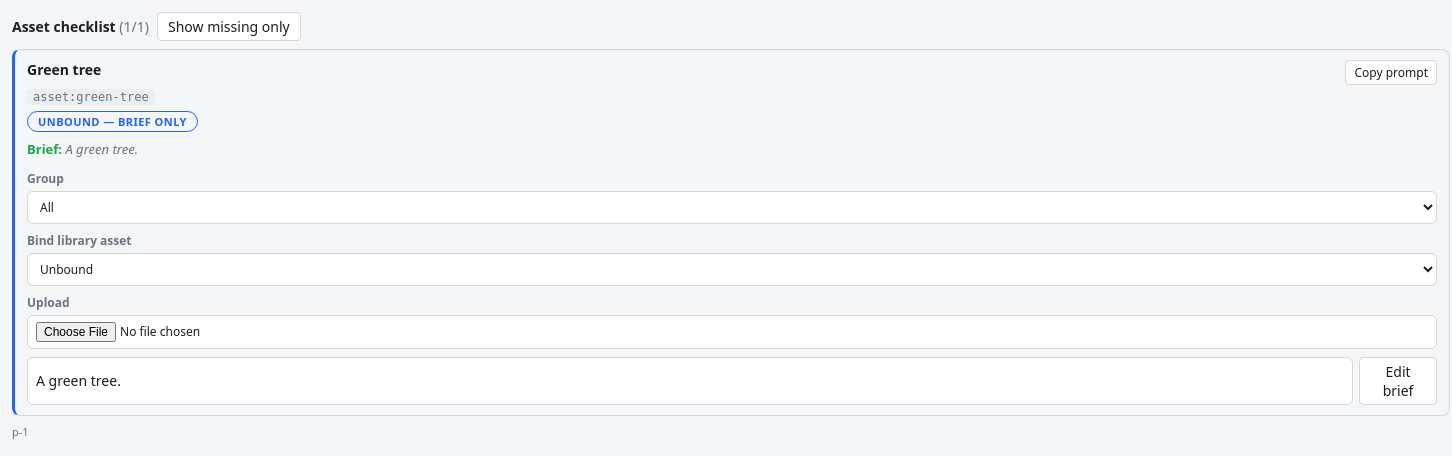
Test case: AiScenarioChecklist title and copy prompt › shows the visual alt as row title and copies a self-contained prompt
Expected: the element with test id "ai-scenario-checklist-row-green-tree" shows "Green tree", left=27, top=60, right=101, bottom=79
Click the button with test id "ai-scenario-checklist-copy-green-tree". click: (1391,72)
box: left=1346, top=60, right=1437, bottom=85
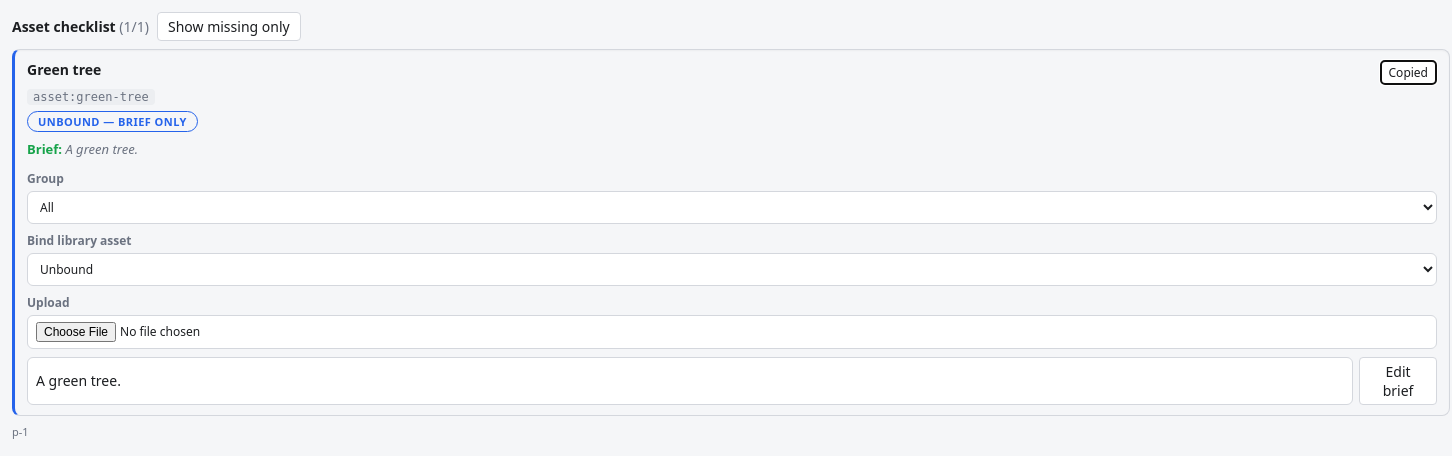
Now the button "Copied" is shown, box left=1380, top=60, right=1437, bottom=85
